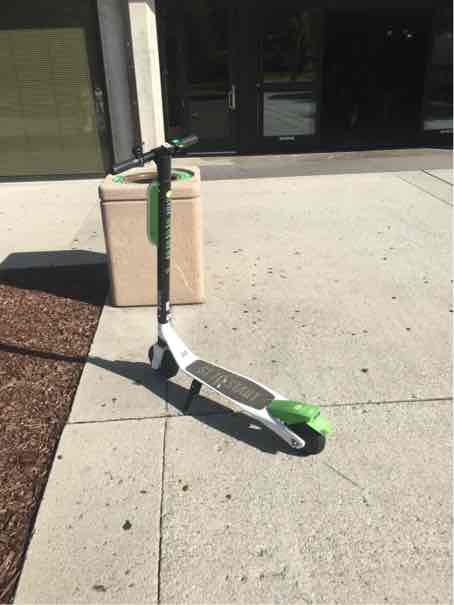scooter: (95, 135, 337, 460)
